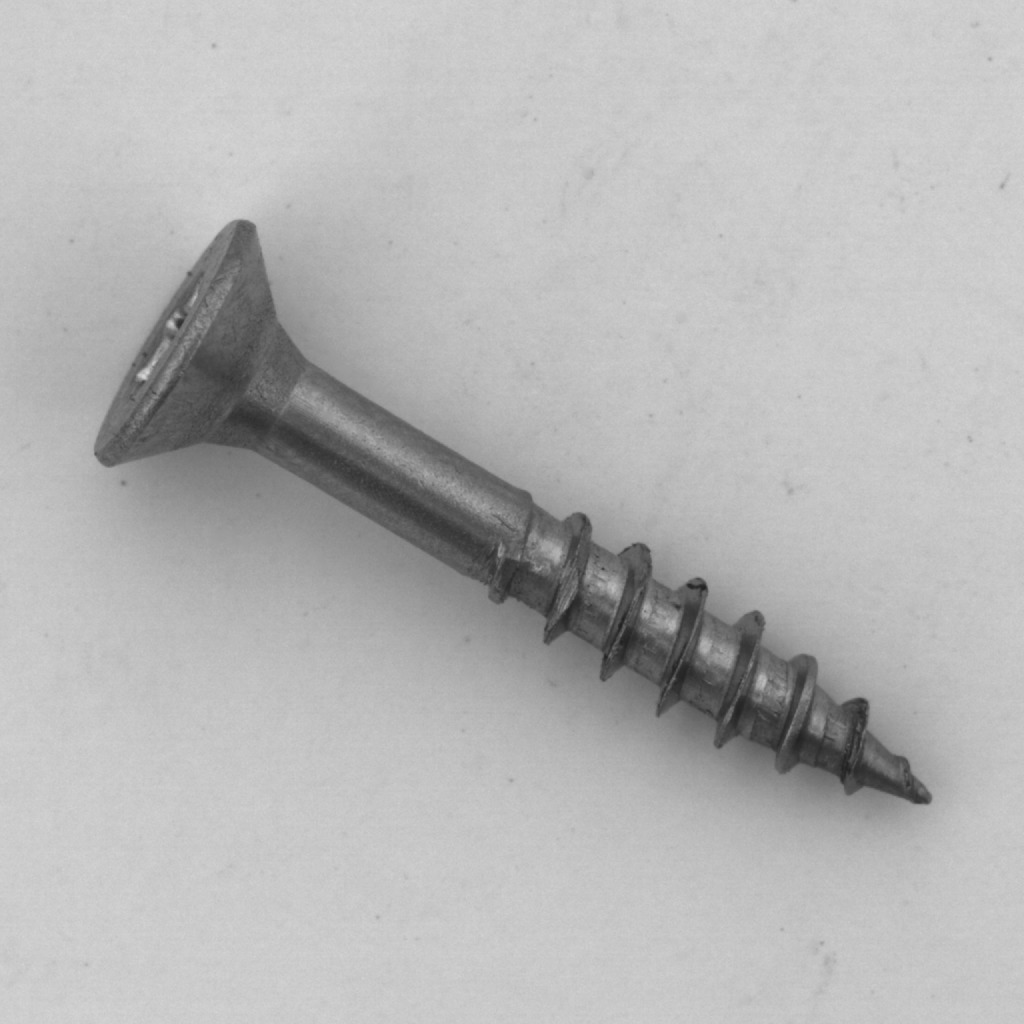good: (77, 205, 945, 826)
